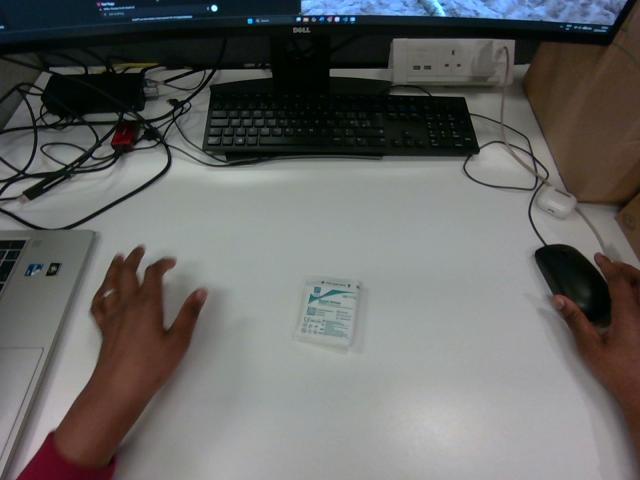gauze: (294, 277, 360, 350)
